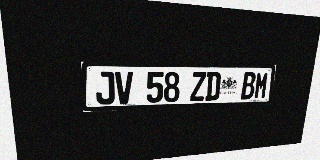5: (147, 72, 164, 103)
8: (163, 72, 180, 102)
B: (241, 72, 256, 99)
D: (205, 72, 221, 101)
J: (95, 71, 115, 105)
M: (254, 72, 269, 99)
V: (115, 71, 133, 104)
Z: (190, 72, 206, 101)
